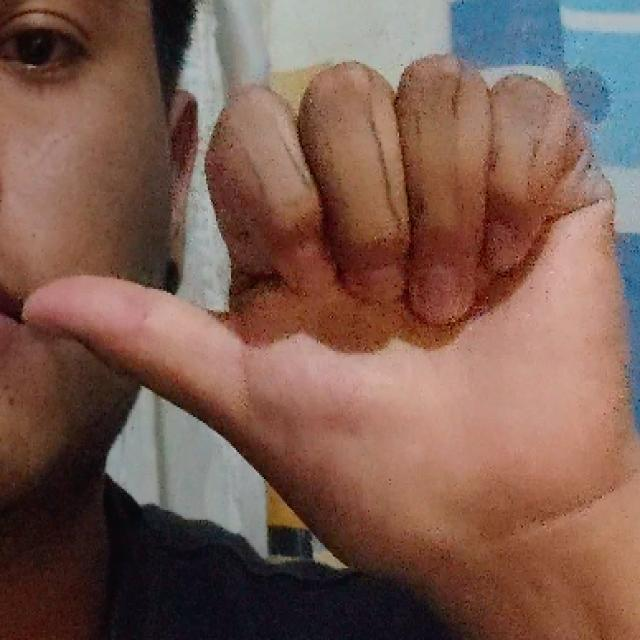A: (8, 48, 640, 631)
